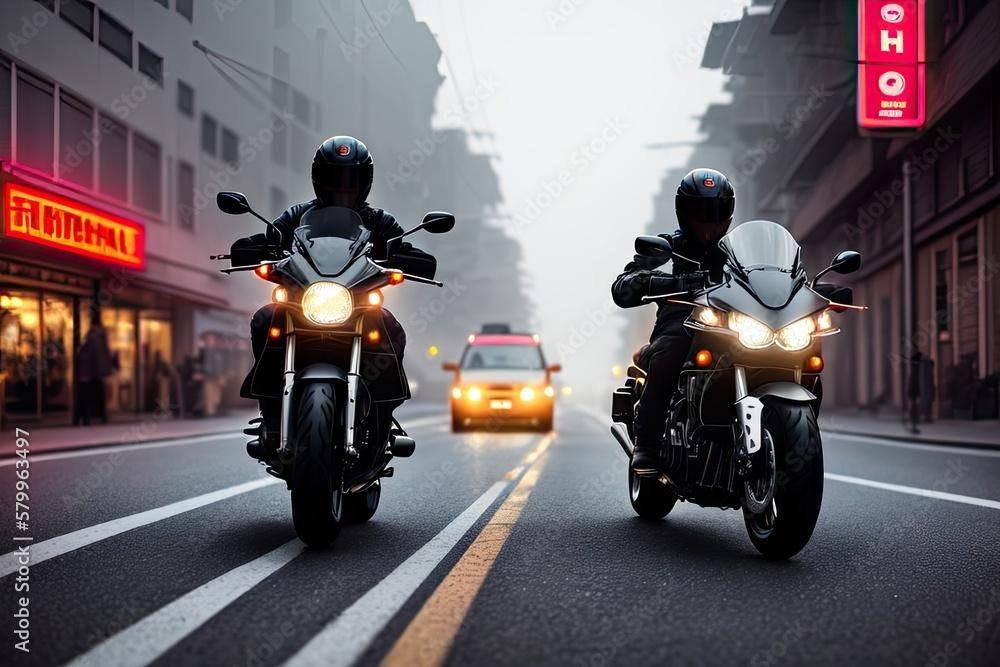helmet: (311, 135, 375, 220), (674, 167, 737, 248)
